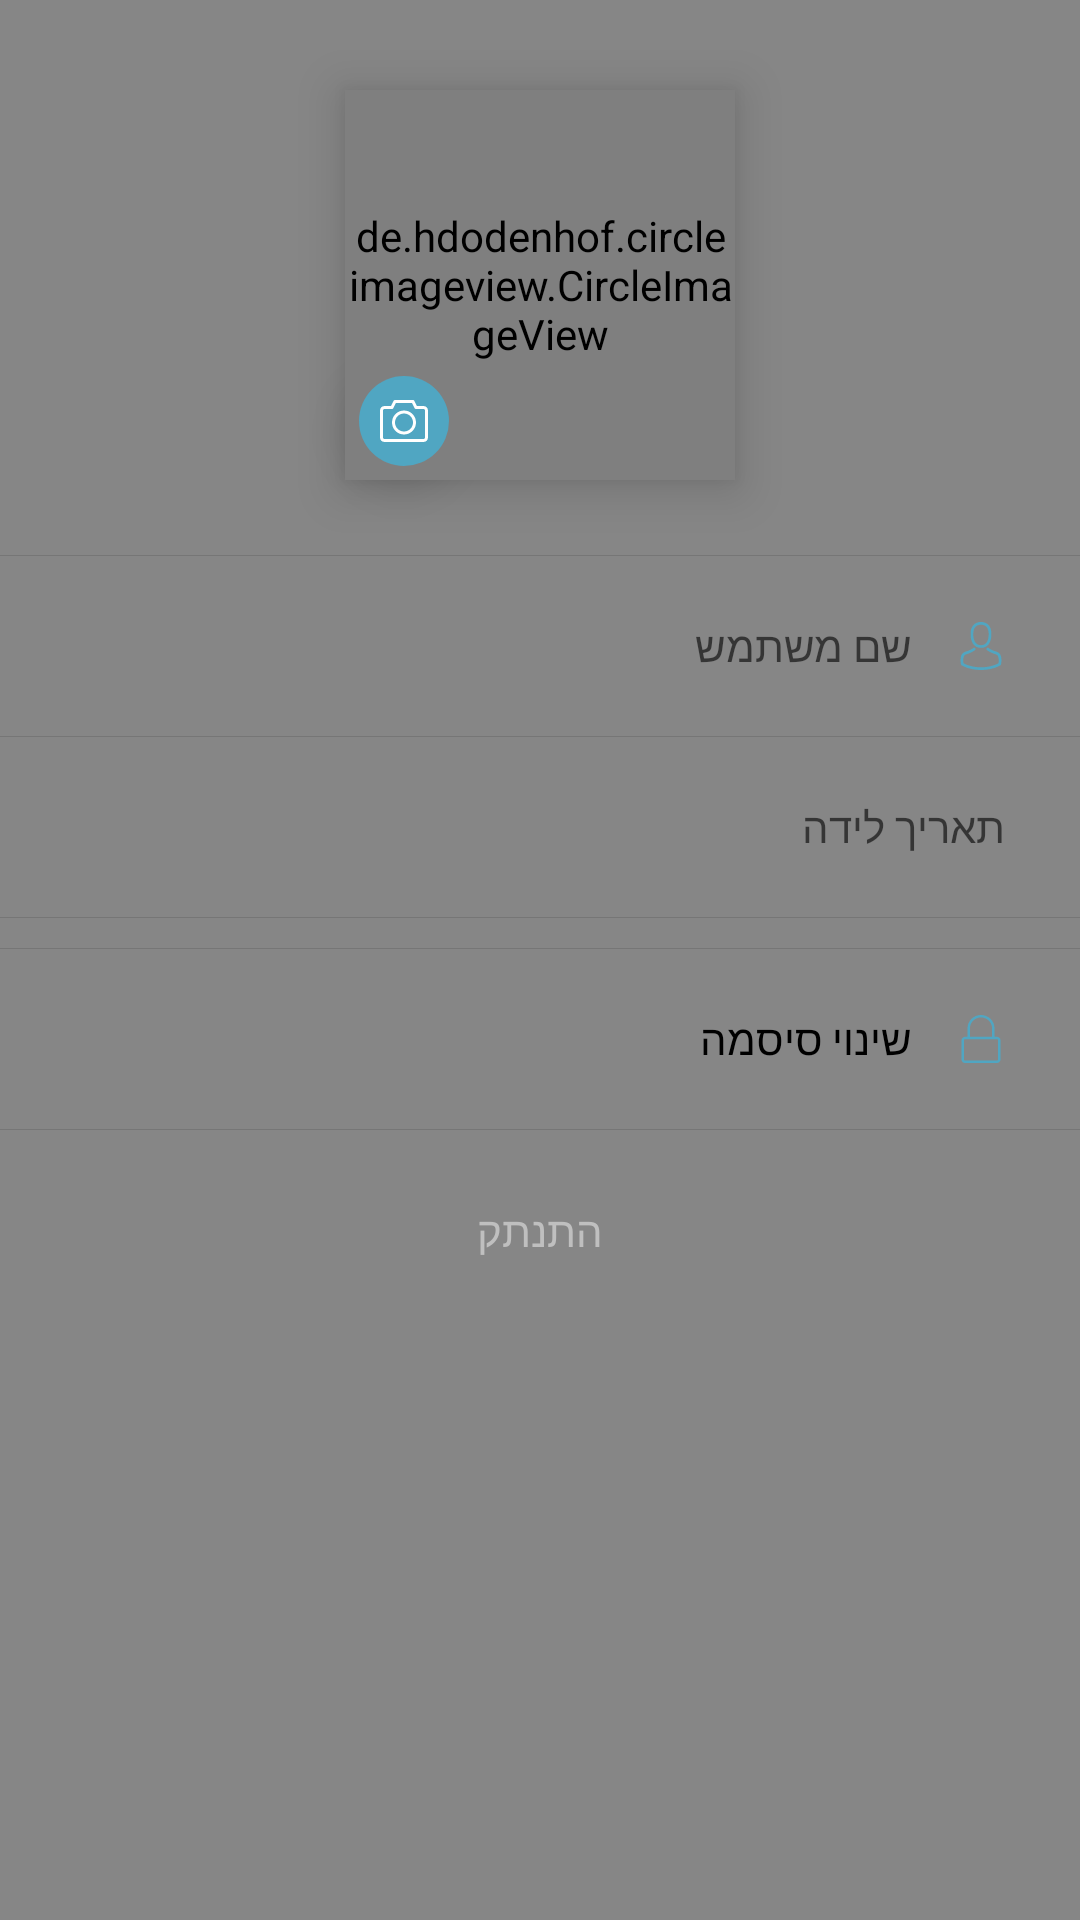

Icons on this 1080×1920 Android screen, each with the point to tap as [x,y]:
camera: [404,421]
